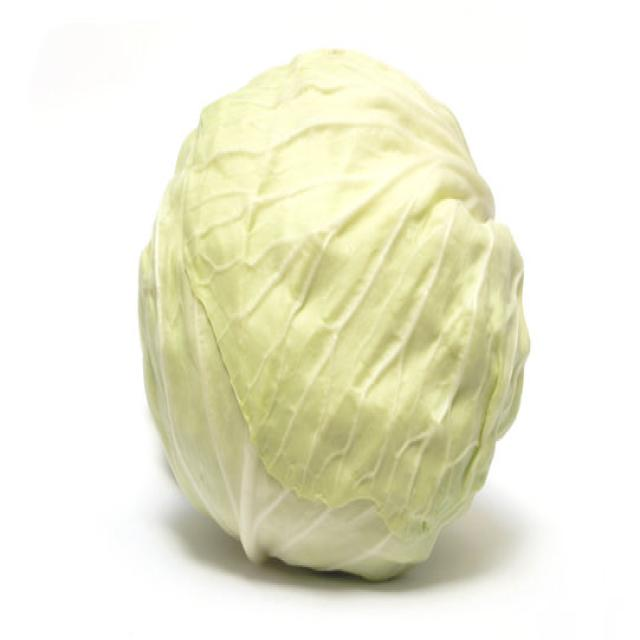Cabbage: (136, 44, 530, 582)
